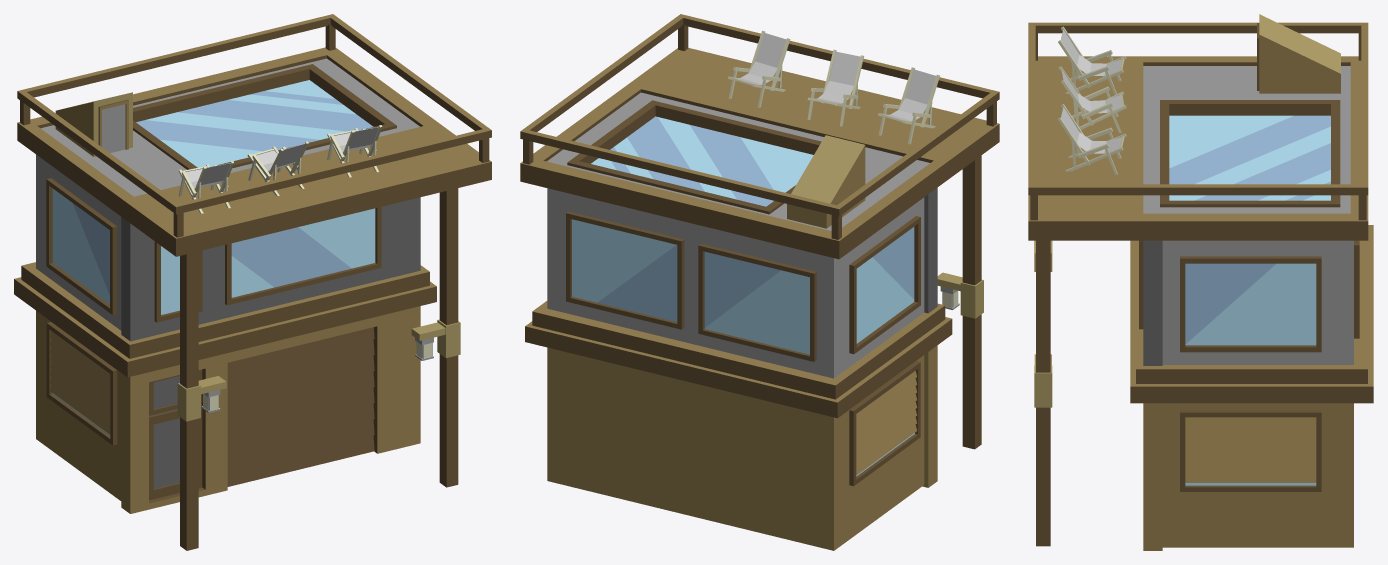
Rendered from cottage_001.glb.
The picture shows the model from 3 angles, left to right: view 1: azimuth 30°, elevation 25°; view 2: azimuth 150°, elevation 25°; view 3: azimuth 270°, elevation 25°; orthographic projection. The views are drawn at different scales.
Parts seen in each view (by area): view 1: cottage_001; view 2: cottage_001; view 3: cottage_001.
Part boxes in pixels (box(x1,y1,x2,y2)): cottage_001: box(14, 14, 491, 550); cottage_001: box(520, 14, 999, 550); cottage_001: box(1028, 14, 1373, 550).
Size of the model in its own units: 6.41 by 7.16 by 5.66.
1 material, 1 textured.
